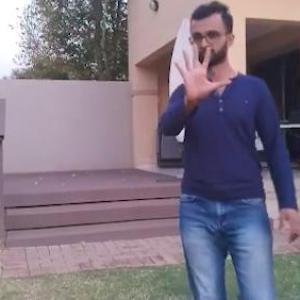follow_hand: (170, 33, 232, 103)
